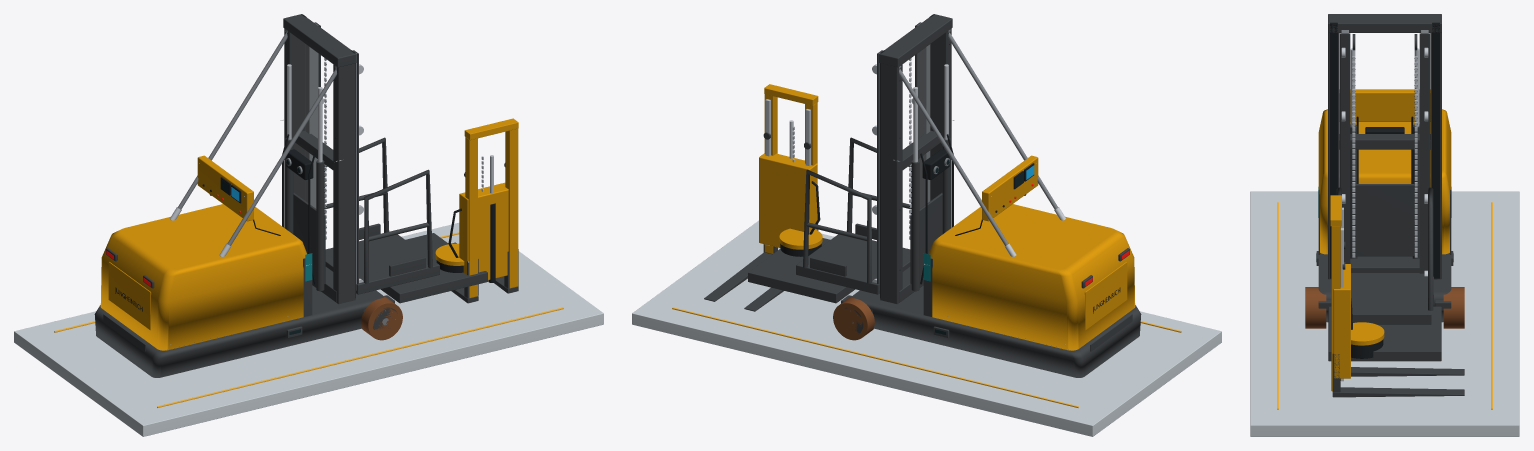
The picture shows the model from 3 angles, left to right: view 1: azimuth 30°, elevation 25°; view 2: azimuth 150°, elevation 25°; view 3: azimuth 270°, elevation 25°; orthographic projection. The views are drawn at different scales.
Visible parts, largest first — view 1: Ground plane, EKX battery hood yellow shoulders, EKX lower graphite chassis, EKX outer mast structural rail, EKX turret carriage back, EKX empty lift platform, EKX outer mast structural rail.001, EKX traverse lower rail, EKX yellow turret vertical rail.001, EKX rear yellow identification, EKX yellow AGV control bridge, EKX yellow turret vertical rail (+13 smaller); view 2: Ground plane, EKX battery hood yellow shoulders, EKX lower graphite chassis, EKX outer mast structural rail.001, EKX turret carriage back, EKX empty lift platform, EKX traverse lower rail, EKX outer mast structural rail, EKX rear yellow identification, EKX yellow AGV control bridge, EKX mast upper crown, EKX inner mast moving rail (+14 smaller); view 3: Ground plane, EKX battery hood yellow shoulders, EKX rear mast panel lower, EKX empty lift platform, EKX traverse lower rail, EKX nested track flange.001, EKX nested track flange, EKX yellow AGV control bridge, EKX outer mast channel inner face.001, EKX mast upper crown, EKX turret carriage back, EKX outer mast channel inner face (+22 smaller).
Part boxes in pixels (x1,y1,x2,y2): Ground plane: (14, 223, 603, 436); EKX battery hood yellow shoulders: (100, 204, 306, 350); EKX lower graphite chassis: (94, 285, 383, 377); EKX outer mast structural rail: (333, 50, 355, 304); EKX turret carriage back: (459, 182, 508, 280); EKX empty lift platform: (325, 234, 439, 294); EKX outer mast structural rail.001: (284, 14, 305, 228); EKX traverse lower rail: (381, 233, 487, 303); EKX yellow turret vertical rail.001: (505, 128, 518, 288); EKX rear yellow identification: (108, 262, 151, 330); EKX yellow AGV control bridge: (197, 155, 253, 221); EKX yellow turret vertical rail: (465, 137, 477, 298); Ground plane: (632, 220, 1221, 436); EKX battery hood yellow shoulders: (929, 204, 1135, 350); EKX lower graphite chassis: (852, 285, 1141, 377); EKX outer mast structural rail.001: (880, 50, 902, 304); EKX turret carriage back: (759, 153, 817, 247); EKX empty lift platform: (796, 234, 910, 294); EKX traverse lower rail: (748, 238, 854, 303); EKX outer mast structural rail: (930, 14, 951, 228); EKX rear yellow identification: (1084, 262, 1127, 330); EKX yellow AGV control bridge: (982, 155, 1038, 221); EKX mast upper crown: (879, 14, 952, 67); EKX inner mast moving rail: (917, 23, 930, 208); Ground plane: (1250, 191, 1519, 436); EKX battery hood yellow shoulders: (1318, 109, 1451, 254); EKX rear mast panel lower: (1351, 184, 1418, 256); EKX empty lift platform: (1351, 273, 1431, 324); EKX traverse lower rail: (1328, 306, 1441, 361); EKX nested track flange.001: (1419, 33, 1429, 273); EKX nested track flange: (1340, 33, 1350, 263); EKX yellow AGV control bridge: (1339, 89, 1430, 121); EKX outer mast channel inner face.001: (1432, 22, 1439, 278); EKX mast upper crown: (1328, 14, 1441, 32); EKX turret carriage back: (1333, 264, 1350, 378); EKX outer mast channel inner face: (1330, 22, 1337, 278).
Size of the model in its own units: 5.05 by 3.09 by 2.45.
